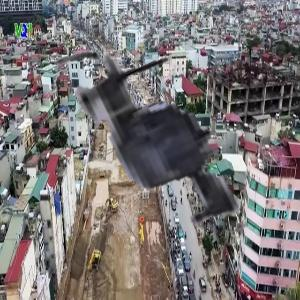drone: (9, 18, 287, 296)
